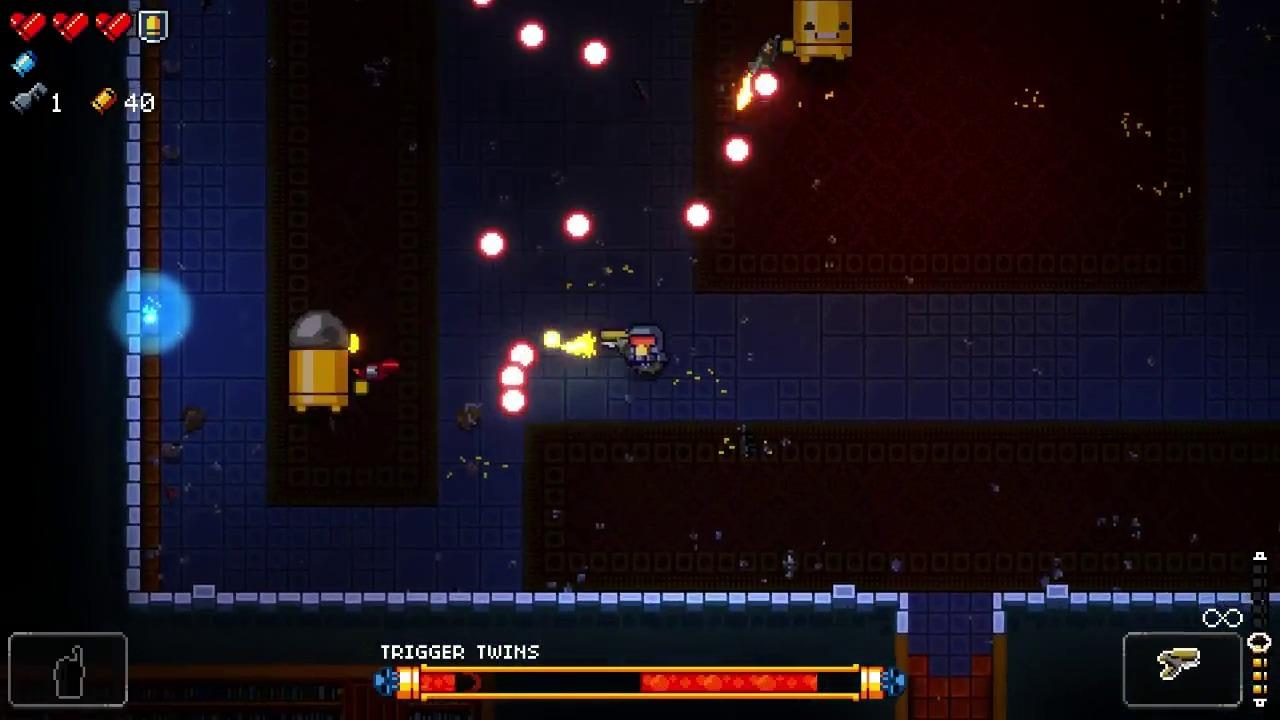boss_shades: (287, 308, 348, 415)
boss_smiley: (790, 0, 854, 63)
bullet: (561, 208, 593, 243), (515, 19, 548, 51), (498, 385, 529, 418), (721, 136, 754, 167), (683, 200, 714, 232), (506, 339, 540, 368), (497, 360, 527, 391), (582, 39, 611, 71), (750, 70, 781, 99), (478, 230, 506, 260)
player: (626, 326, 666, 378)
